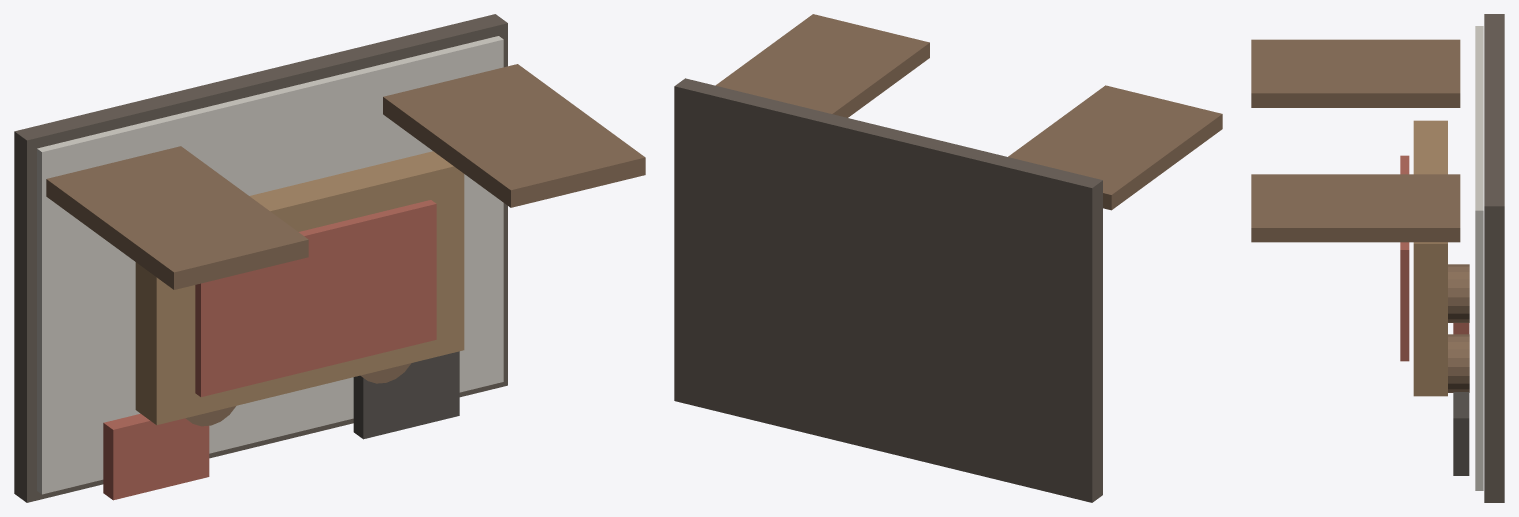
The model's file is yin_print_theater_static.glb.
3 renders of one model, left to right at view 1: azimuth 30°, elevation 25°; view 2: azimuth 150°, elevation 25°; view 3: azimuth 270°, elevation 25°, orthographic. The views are drawn at different scales.
Parts seen in each view (by area): view 1: world; view 2: world; view 3: world.
Part boxes in pixels (x1,y1,x2,y2): world: (14, 14, 645, 502); world: (674, 14, 1222, 502); world: (1251, 14, 1504, 502).
Bounding box in the file's own units: 1 × 0.72 × 0.5575.
